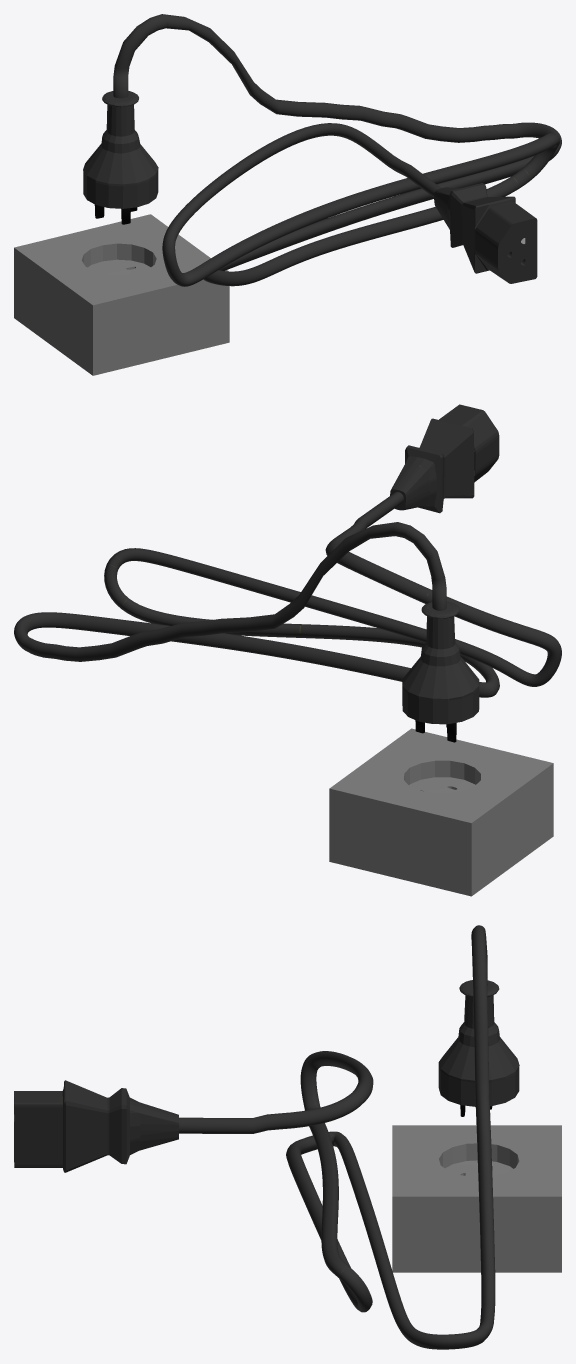
Rendered from AH_Cable.fbx.
3 renders of one model, top to bottom at view 1: azimuth 30°, elevation 25°; view 2: azimuth 150°, elevation 25°; view 3: azimuth 270°, elevation 25°, orthographic. The views are drawn at different scales.
Visible parts, largest first — view 1: BaseCablePower, Cube; view 2: BaseCablePower, Cube; view 3: BaseCablePower, Cube.
Boxes of the visible parts, bbox=[...] form: BaseCablePower: bbox=[83, 14, 561, 286]; Cube: bbox=[14, 214, 229, 375]; BaseCablePower: bbox=[14, 404, 561, 742]; Cube: bbox=[329, 728, 553, 896]; BaseCablePower: bbox=[14, 925, 519, 1349]; Cube: bbox=[392, 1125, 561, 1272].
Size of the model in its own units: 7.15 by 4.26 by 6.46.
